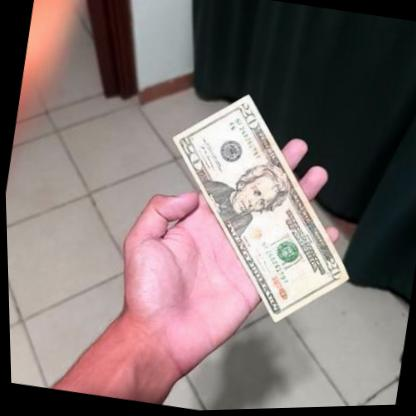twenty-front: (141, 79, 380, 341)
